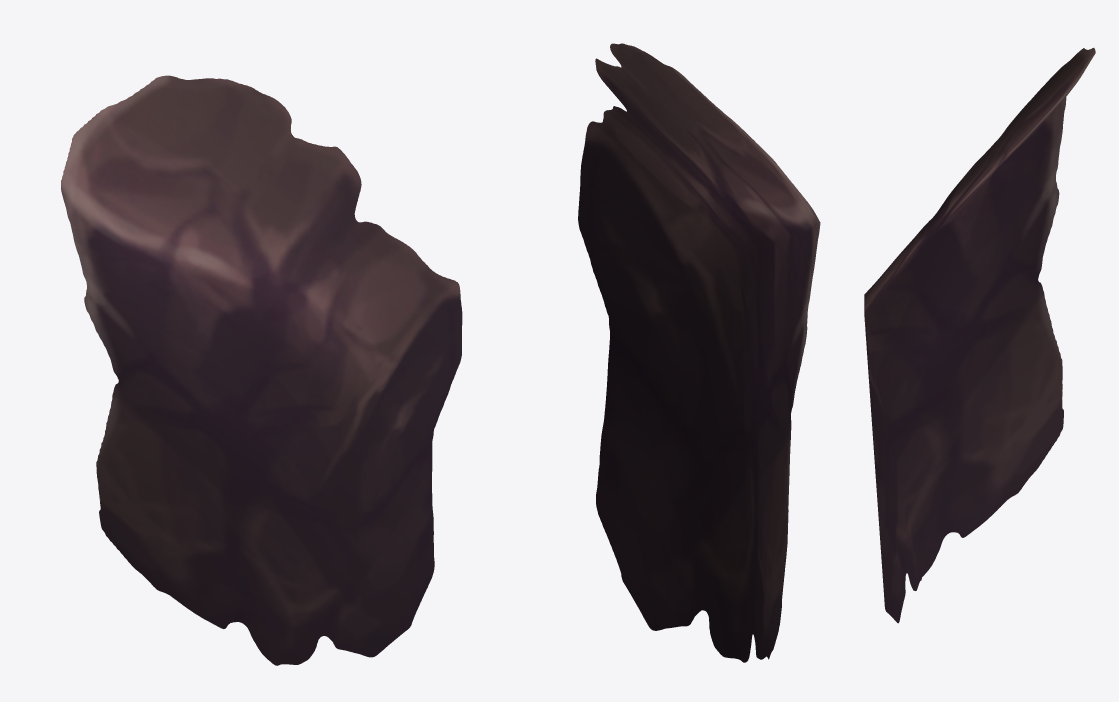
The model's file is Falling Edge.FBX.
3 views of the same model, side by side, from view 1: azimuth 30°, elevation 25°; view 2: azimuth 150°, elevation 25°; view 3: azimuth 270°, elevation 25° (orthographic). The views are drawn at different scales.
Parts seen in each view (by area): view 1: Falling Edge; view 2: Falling Edge; view 3: Falling Edge.
Boxes of the visible parts, x1,y1,x2,y2 form: Falling Edge: (61,75,462,665); Falling Edge: (578,43,820,662); Falling Edge: (864,48,1095,623).
Size of the model in its own units: 205 by 122 by 338.
